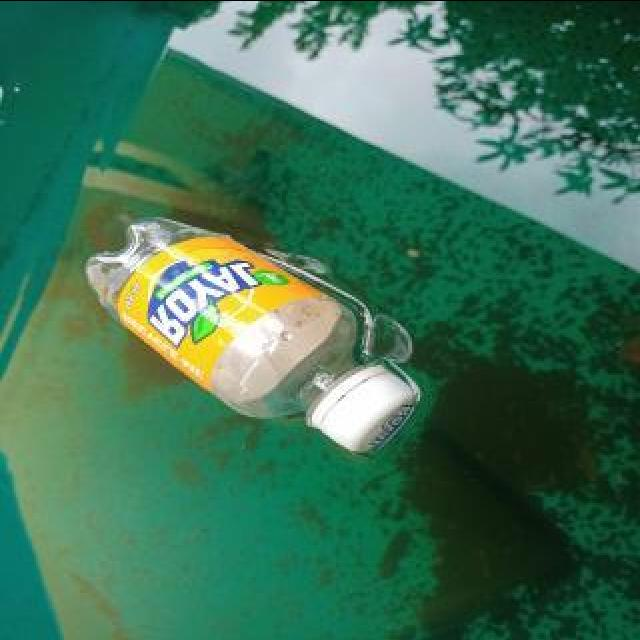Bottle: (78, 207, 426, 460)
